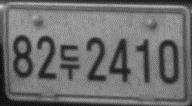0: (157, 39, 180, 84)
1: (135, 38, 151, 84)
2: (85, 37, 108, 82), (35, 35, 57, 79)
4: (108, 37, 131, 83)
8: (12, 34, 34, 78)
두: (58, 43, 81, 80)
